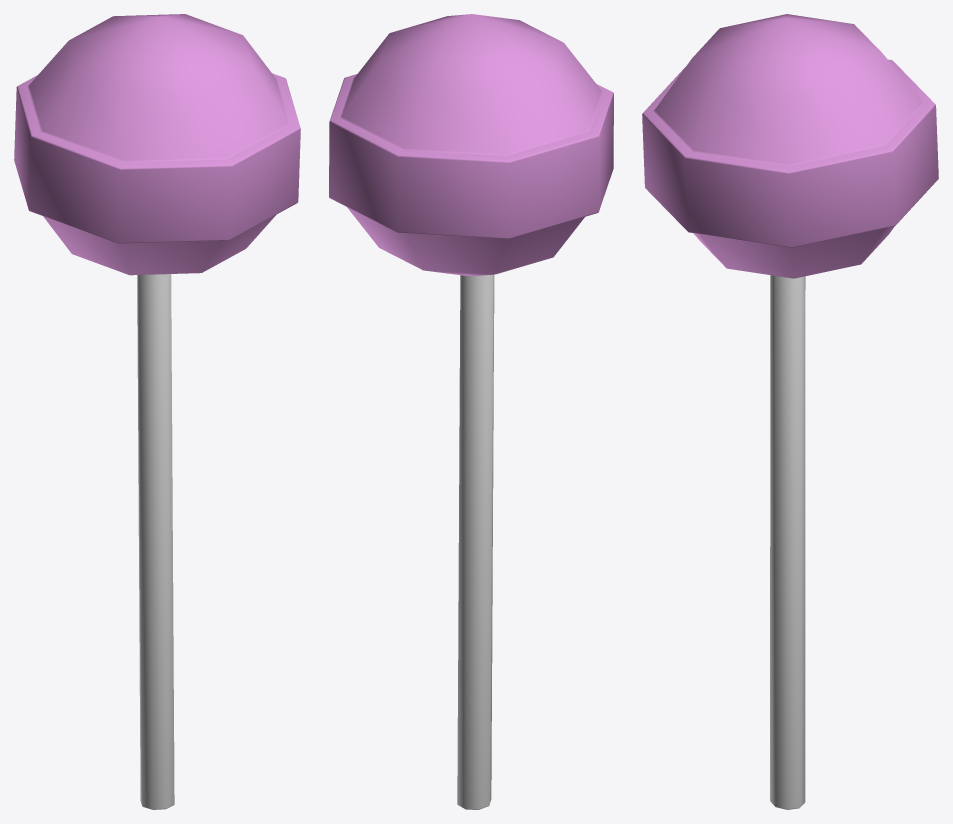
Rendered from Lollipop.glb.
3 views of the same model, side by side, from view 1: azimuth 30°, elevation 25°; view 2: azimuth 150°, elevation 25°; view 3: azimuth 270°, elevation 25° (orthographic).
Parts seen in each view (by area): view 1: lollipop; view 2: lollipop; view 3: lollipop.
Part boxes in pixels (box(x1,y1,x2,y2)): lollipop: box(14, 14, 300, 809); lollipop: box(329, 14, 613, 809); lollipop: box(642, 14, 938, 809).
Size of what is drawn, in the model's own units: 0.5294 by 1.56 by 0.5319.
Materials: 2 (1 with a texture image).
